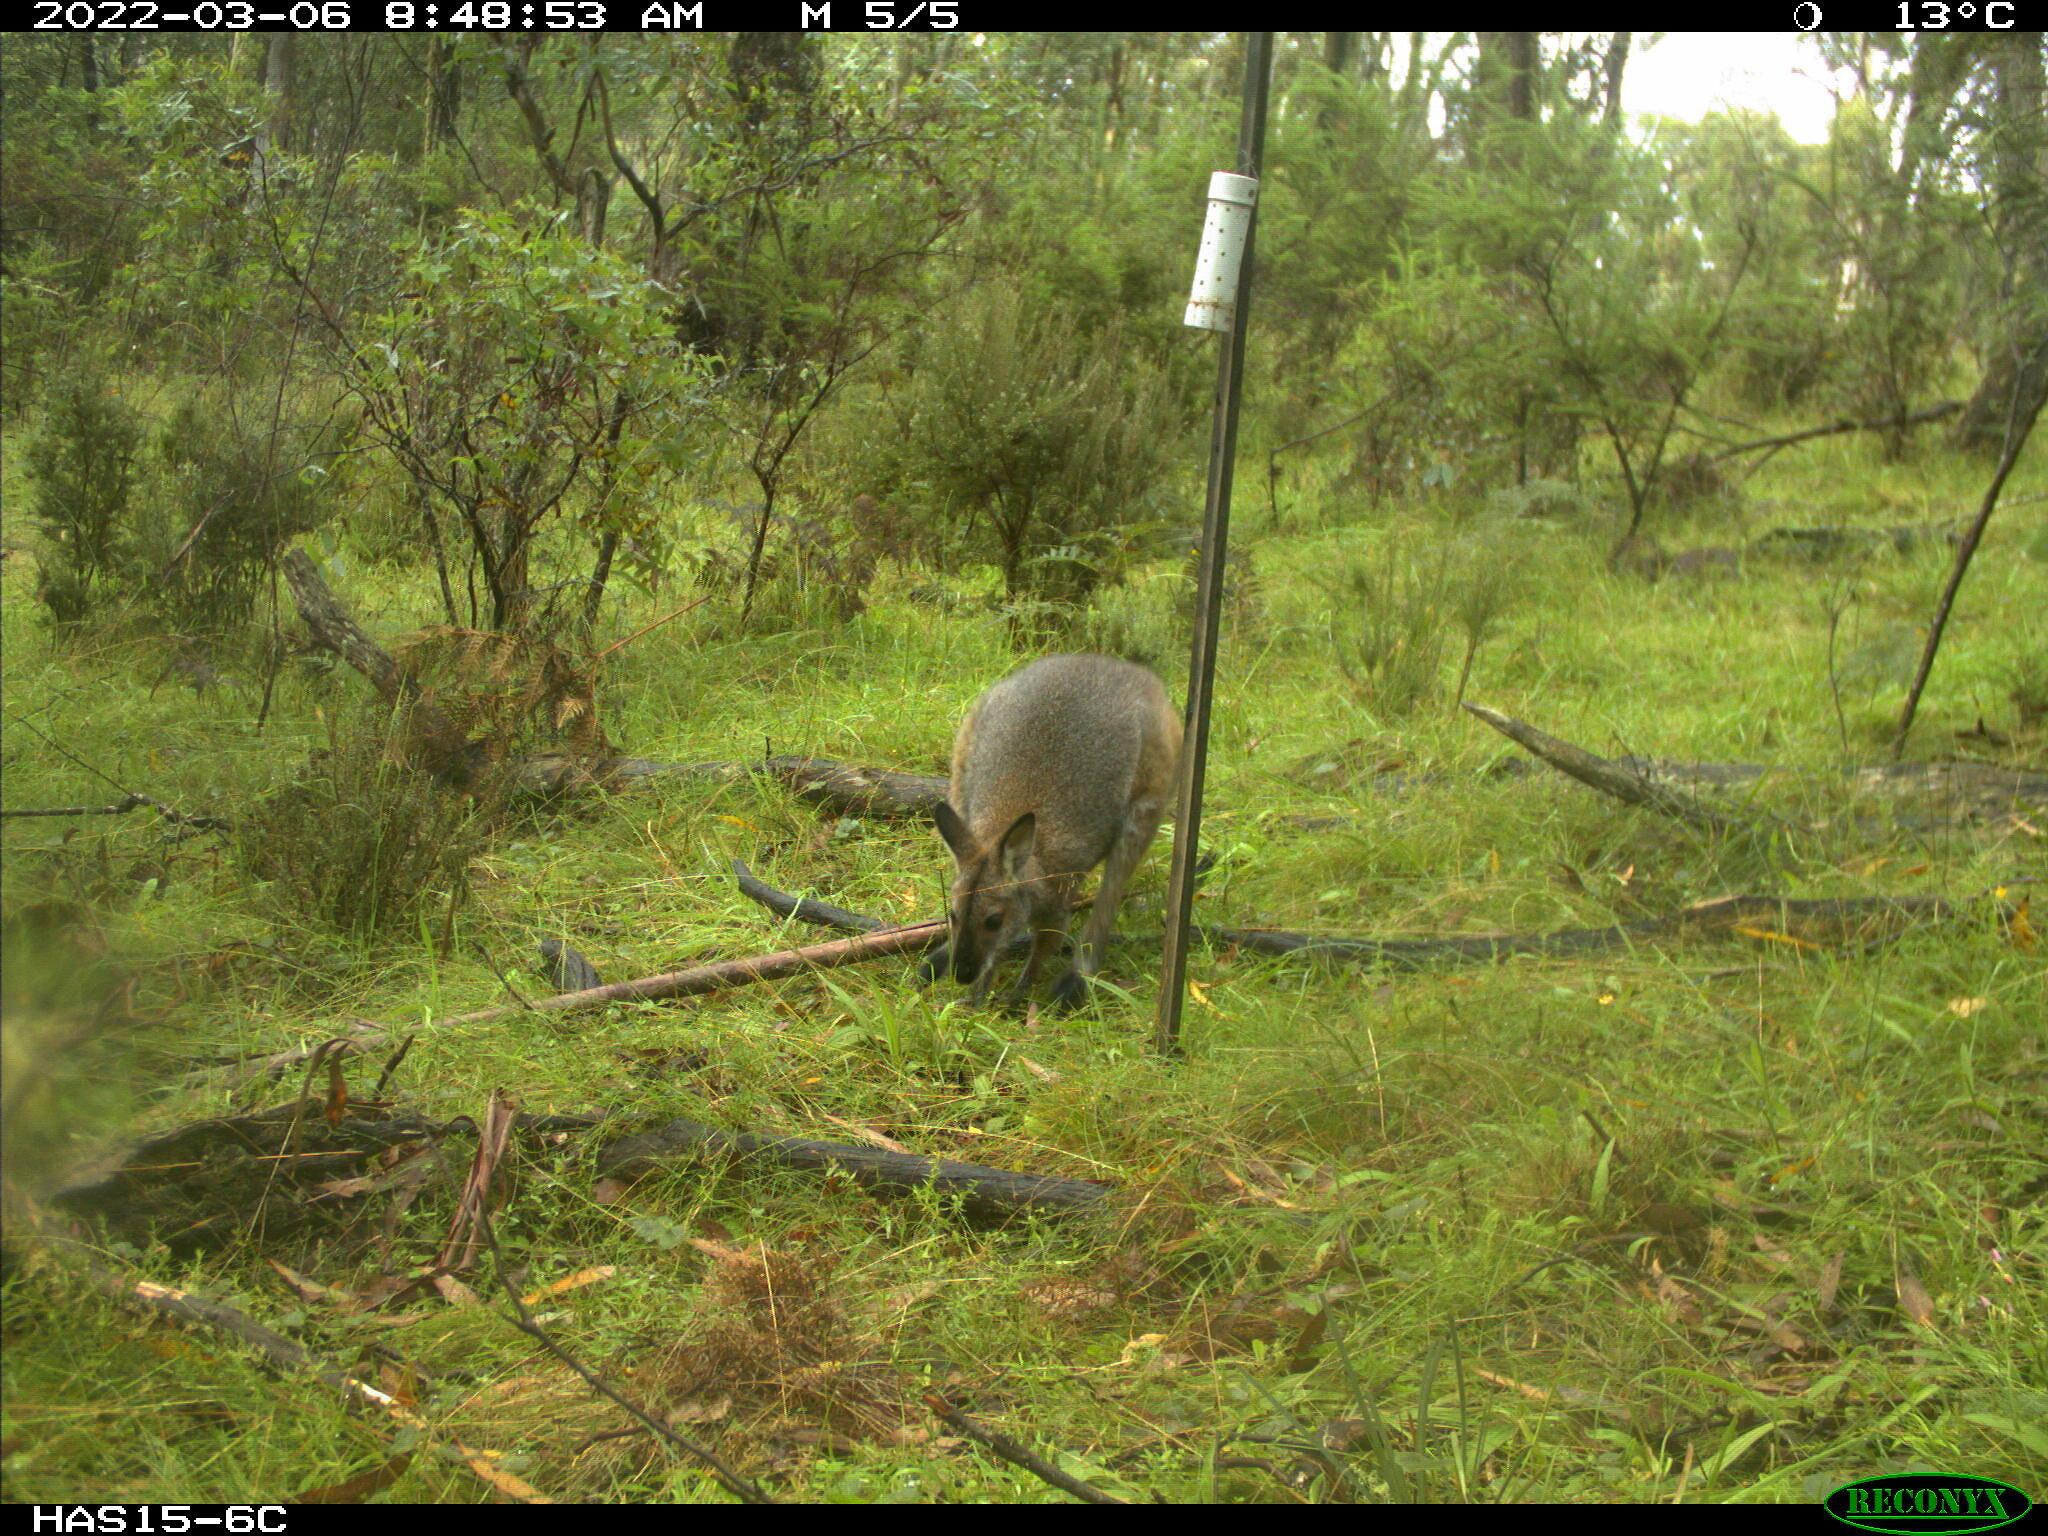Red-necked wallaby: (926, 652, 1198, 1037)
